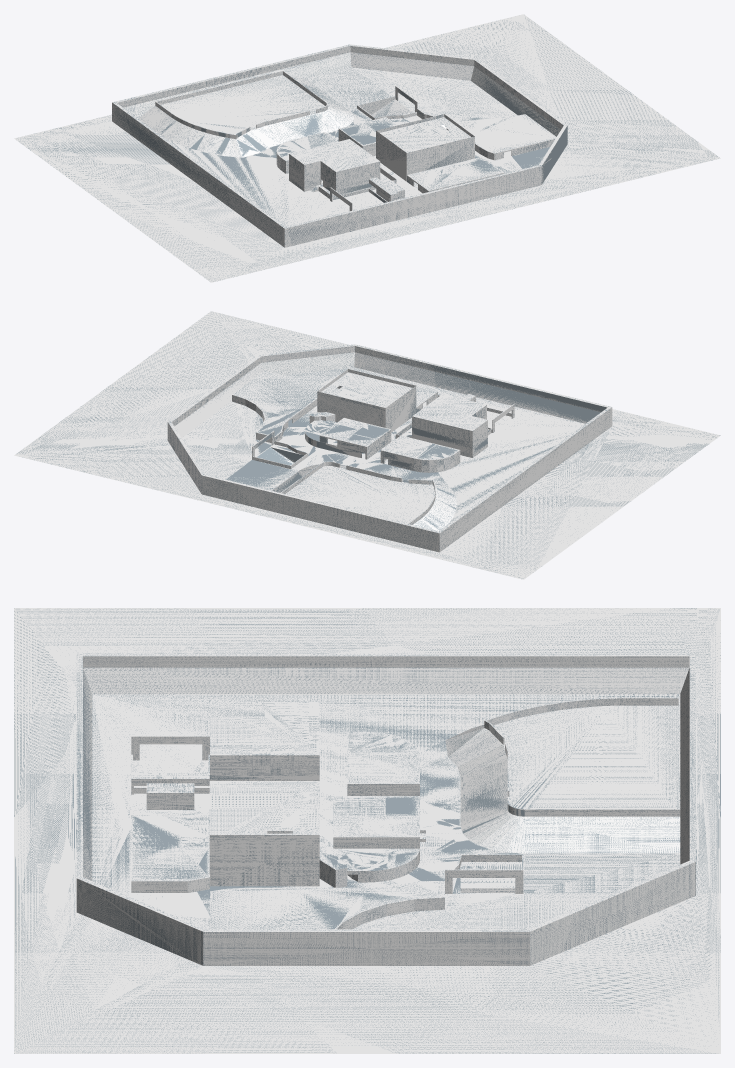
Rendered from Collider2.fbx.
The picture shows the model from 3 angles, top to bottom: view 1: azimuth 30°, elevation 25°; view 2: azimuth 150°, elevation 25°; view 3: azimuth 270°, elevation 25°; orthographic projection. The views are drawn at different scales.
Parts seen in each view (by area): view 1: Model; view 2: Model; view 3: Model.
Boxes of the visible parts, x1,y1,x2,y2 form: Model: [14, 14, 720, 282]; Model: [14, 311, 720, 579]; Model: [14, 608, 720, 1053].
Size of the model in its own units: 336 by 28.18 by 225.
